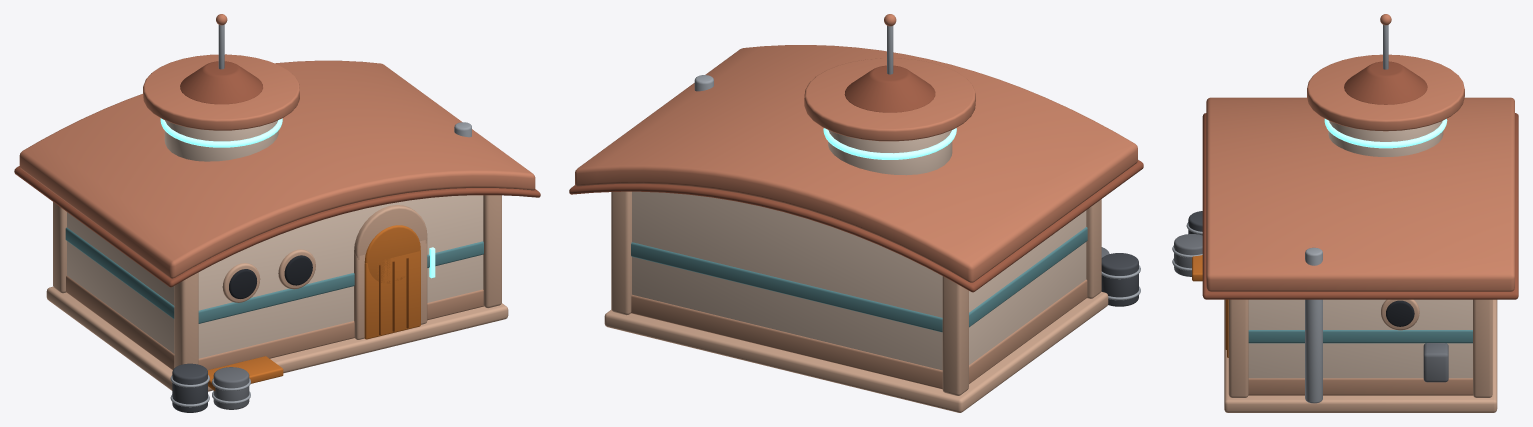
Rendered from habitat.glb.
3 renders of one model, left to right at view 1: azimuth 30°, elevation 25°; view 2: azimuth 150°, elevation 25°; view 3: azimuth 270°, elevation 25°, orthographic. The views are drawn at different scales.
Visible parts, largest first — view 1: Cube.008, Cube.001, Cylinder.001, Cube, Cube.002, Cube.009, Cube.003, Cube.011, Cylinder, Cone, Cube.004, Cube.006 (+12 smaller); view 2: Cube.008, Cube.001, Cube, Cylinder.001, Cube.002, Cube.003, Cube.009, Cone, Cylinder, Cube.005, Cube.007, Cylinder.012 (+2 smaller); view 3: Cube.008, Cube.001, Cylinder.001, Cube, Cube.009, Cube.002, Cube.003, Cone, Cylinder.011, Cylinder, Cube.006, Cube.007 (+5 smaller).
Part boxes in pixels (x1=…): Cube.008: x1=19, y1=60, x2=535, y2=278; Cube.001: x1=67, y1=195, x2=483, y2=358; Cylinder.001: x1=143, y1=54, x2=299, y2=130; Cube: x1=46, y1=286, x2=508, y2=391; Cube.002: x1=66, y1=275, x2=483, y2=369; Cube.009: x1=14, y1=166, x2=540, y2=287; Cube.003: x1=65, y1=227, x2=483, y2=323; Cube.011: x1=364, y1=250, x2=420, y2=339; Cylinder: x1=164, y1=120, x2=278, y2=161; Cone: x1=180, y1=61, x2=262, y2=104; Cube.004: x1=174, y1=272, x2=198, y2=367; Cube.006: x1=483, y1=195, x2=501, y2=308; Cube.008: x1=575, y1=45, x2=1137, y2=282; Cube.001: x1=632, y1=191, x2=1086, y2=370; Cube: x1=604, y1=291, x2=1108, y2=412; Cylinder.001: x1=804, y1=58, x2=975, y2=141; Cube.002: x1=631, y1=279, x2=1087, y2=389; Cube.003: x1=631, y1=227, x2=1087, y2=332; Cube.009: x1=569, y1=160, x2=1143, y2=292; Cone: x1=844, y1=65, x2=935, y2=112; Cylinder: x1=828, y1=130, x2=952, y2=175; Cube.005: x1=942, y1=276, x2=968, y2=395; Cube.007: x1=611, y1=191, x2=631, y2=315; Cylinder.012: x1=1101, y1=253, x2=1138, y2=306; Cube.008: x1=1206, y1=97, x2=1514, y2=291; Cube.001: x1=1248, y1=299, x2=1472, y2=378; Cylinder.001: x1=1307, y1=54, x2=1464, y2=131; Cube: x1=1224, y1=299, x2=1497, y2=412; Cube.009: x1=1202, y1=113, x2=1518, y2=299; Cube.002: x1=1248, y1=378, x2=1472, y2=395; Cube.003: x1=1248, y1=330, x2=1472, y2=343; Cone: x1=1344, y1=61, x2=1427, y2=104; Cylinder.011: x1=1305, y1=247, x2=1322, y2=403; Cylinder: x1=1328, y1=121, x2=1443, y2=156; Cube.006: x1=1228, y1=299, x2=1248, y2=397; Cube.007: x1=1473, y1=299, x2=1492, y2=397.
Bounding box in the file's own units: 12 × 9.16 × 9.65.
